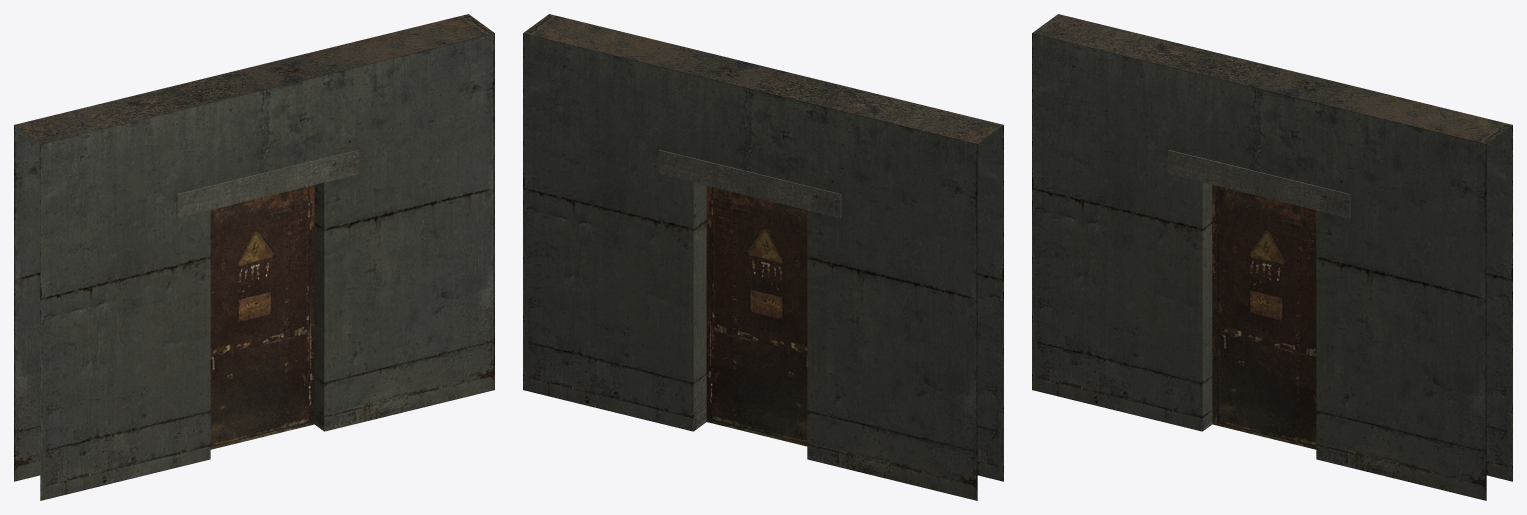
The model's file is doorway_rg_1_regular.obj.
3 views of the same model, side by side, from view 1: azimuth 30°, elevation 25°; view 2: azimuth 150°, elevation 25°; view 3: azimuth 330°, elevation 25° (orthographic).
Parts seen in each view (by area): view 1: doorway_rg_1_regular, door_hr_4; view 2: doorway_rg_1_regular, door_hr_4; view 3: doorway_rg_1_regular, door_hr_4.
Boxes of the visible parts, box(x1,y1,x2,y2) form: doorway_rg_1_regular: box(14, 14, 494, 500); door_hr_4: box(210, 185, 314, 449); doorway_rg_1_regular: box(523, 14, 1003, 500); door_hr_4: box(706, 186, 807, 446); doorway_rg_1_regular: box(1032, 14, 1512, 500); door_hr_4: box(1212, 185, 1316, 449).
Size of the model in its own units: 4 by 3 by 0.42.
